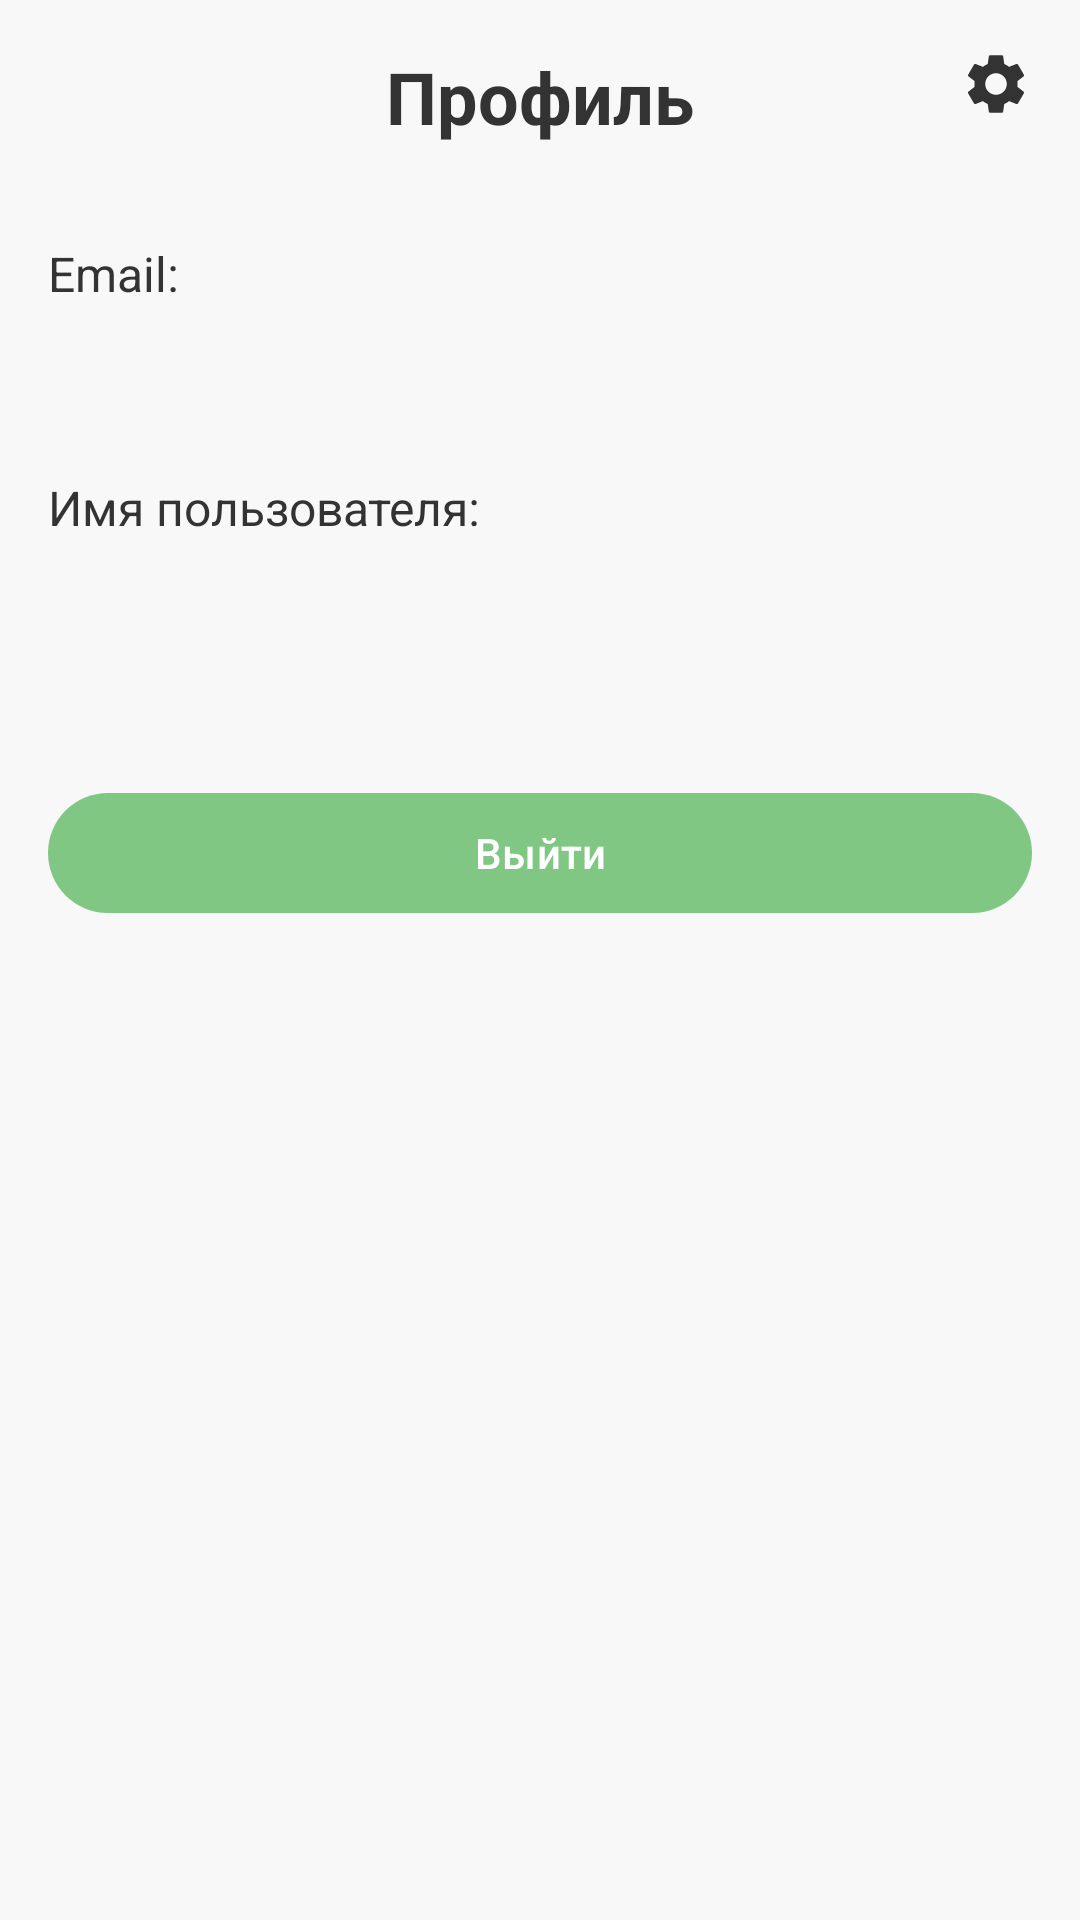

Icon click points for this 1080px x 1920px phone screenshot, format [x,y]:
settings: [996,84]
